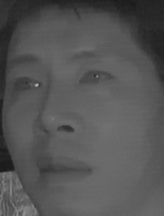eye: (78, 68, 114, 91), (10, 75, 43, 96)
mouth: (34, 151, 94, 188)
